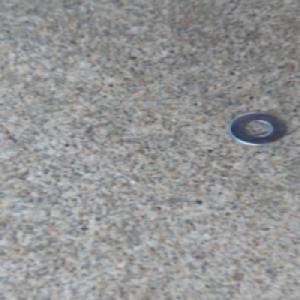Washer: (224, 109, 291, 147)
